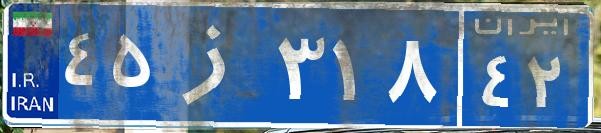1: (330, 28, 385, 110)
2: (525, 38, 570, 115)
3: (273, 28, 330, 110)
4: (57, 26, 110, 107), (475, 38, 525, 113)
5: (110, 28, 158, 105)
8: (385, 28, 445, 110)
ز: (158, 15, 273, 115)
